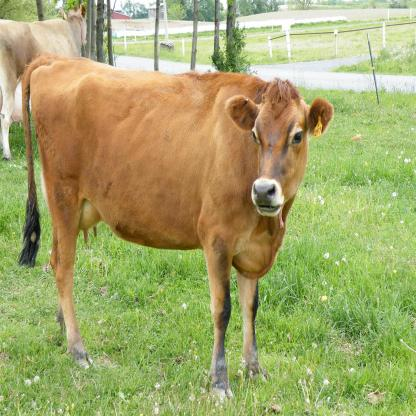cow: (22, 58, 332, 396), (0, 3, 87, 160)
